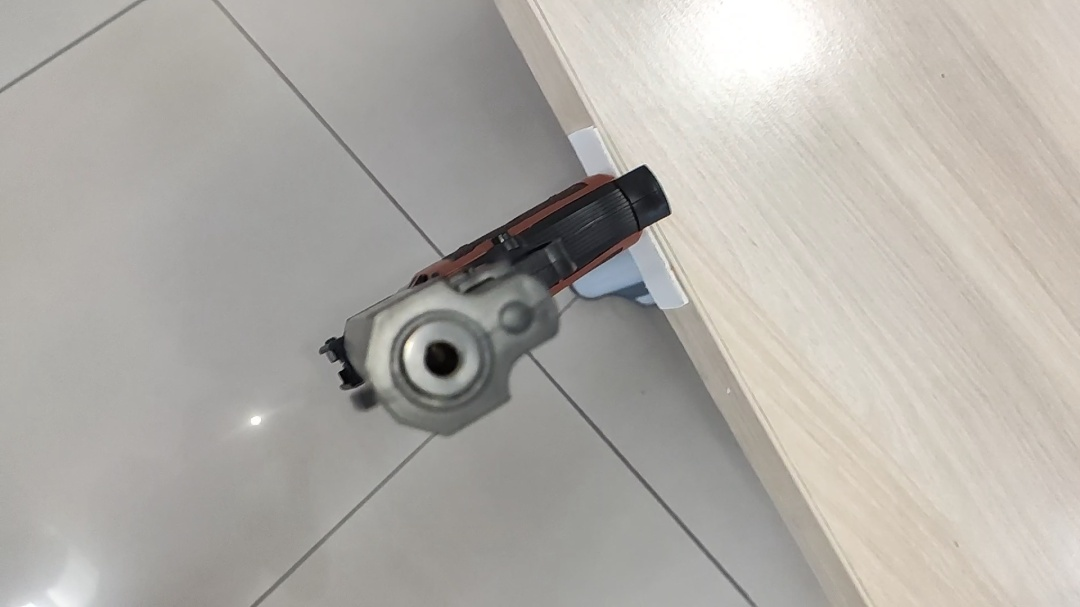gun: (583, 233, 613, 280)
